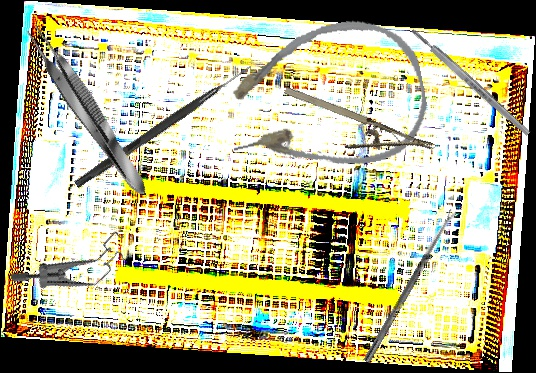Cannula: (214, 9, 436, 188)
Hook Surgical: (73, 60, 254, 191)
Needle Holder: (273, 82, 437, 180)
Scalpel Handle: (409, 26, 532, 138)
Speculum: (8, 199, 139, 327)
Surgical Spoon: (363, 208, 458, 364)
Tissue Forceps: (19, 20, 155, 202)
